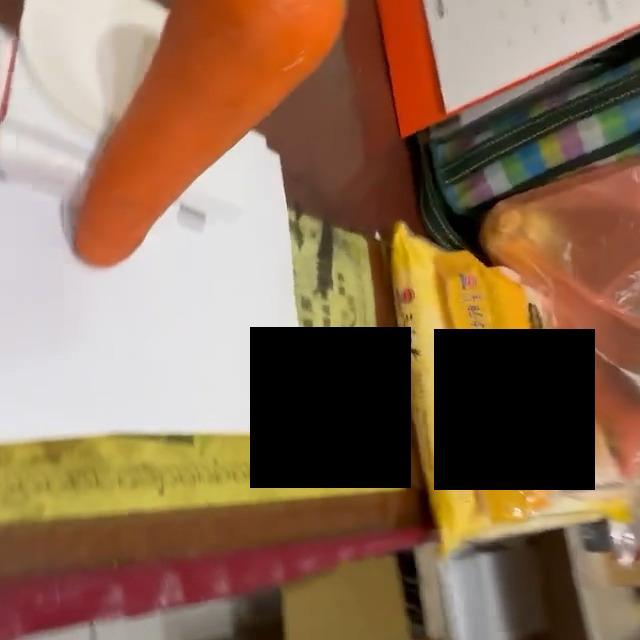carrot: (68, 1, 350, 269)
